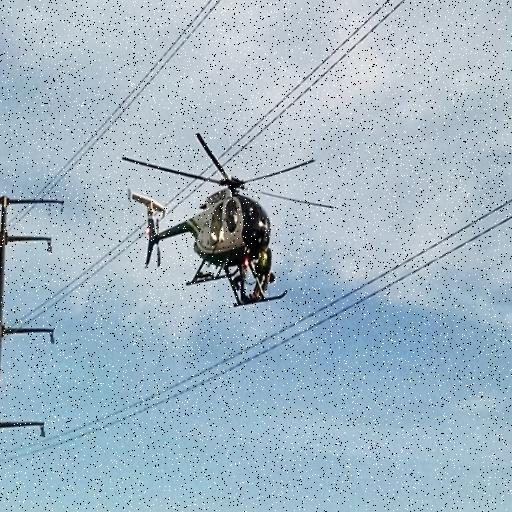helicopter: (116, 132, 334, 310)
